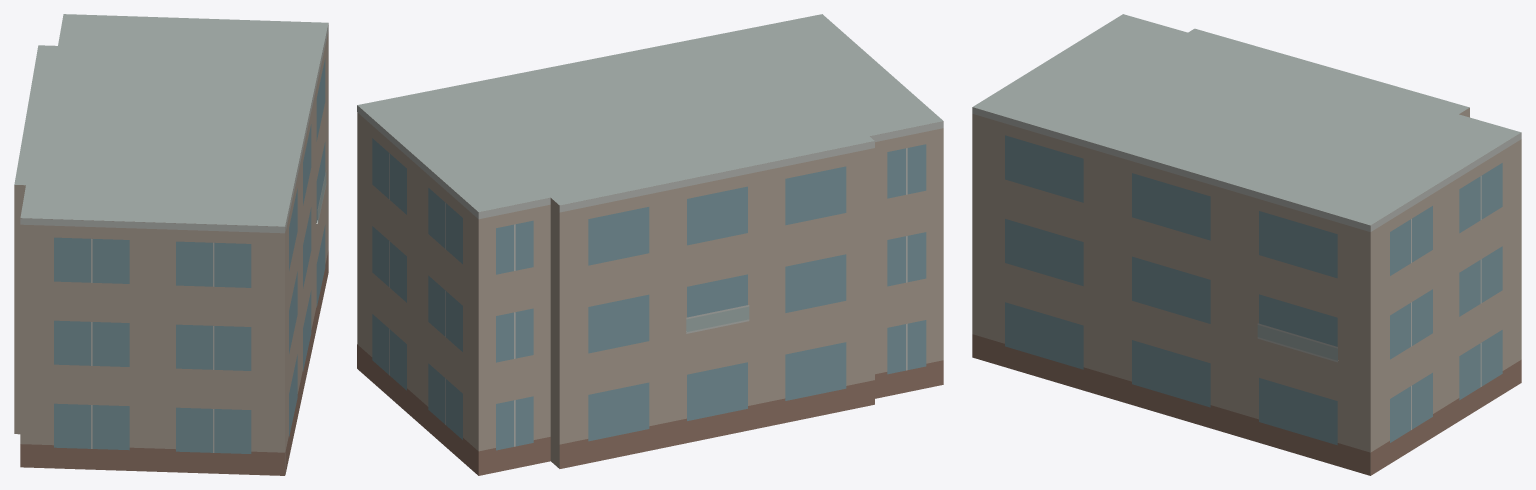
File: survey-upis-32704751.glb
The picture shows the model from 3 angles, left to right: view 1: azimuth 30°, elevation 25°; view 2: azimuth 150°, elevation 25°; view 3: azimuth 270°, elevation 25°; orthographic projection. The views are drawn at different scales.
Visible parts, largest first — view 1: survey-upis-32704751.tmp; view 2: survey-upis-32704751.tmp; view 3: survey-upis-32704751.tmp.
Part boxes in pixels (left/top/right/bottom): survey-upis-32704751.tmp: left=14, top=14, right=328, bottom=475; survey-upis-32704751.tmp: left=357, top=14, right=943, bottom=475; survey-upis-32704751.tmp: left=972, top=14, right=1521, bottom=475.
Size of the model in its own units: 16.58 by 9.15 by 18.2.
